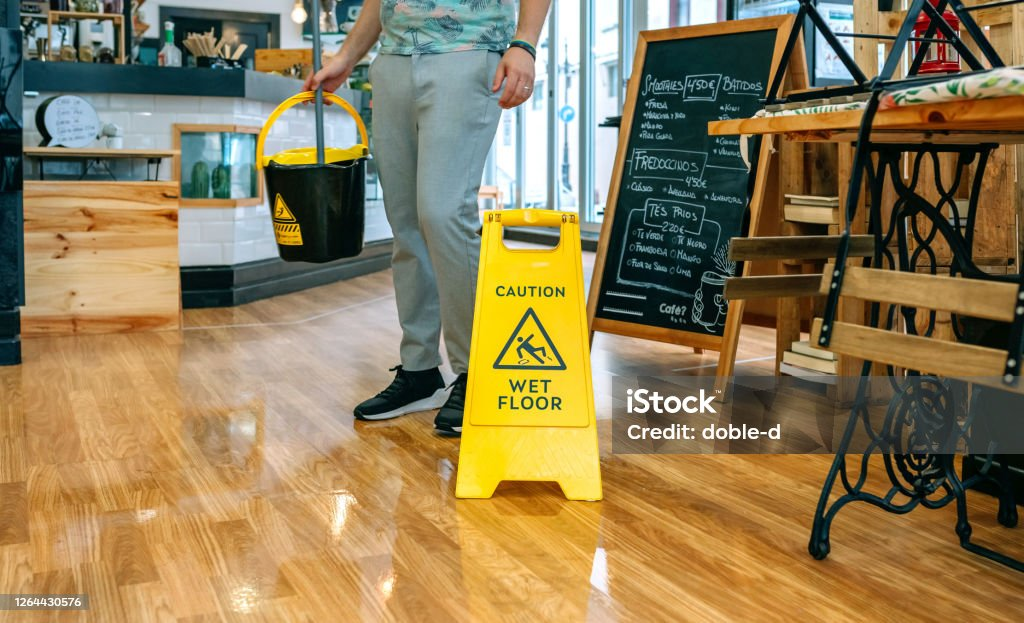wet caution sign: (459, 198, 606, 515)
